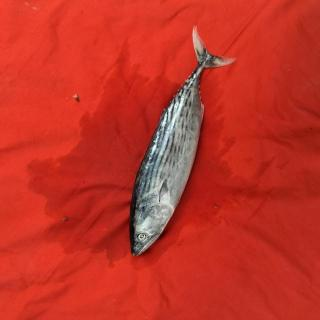Ikan: (122, 29, 245, 265)
